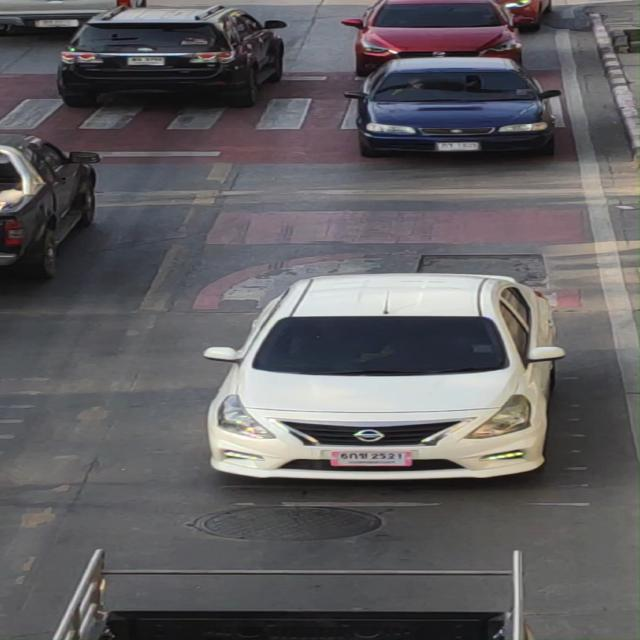car: (186, 260, 596, 494), (342, 46, 568, 156)
